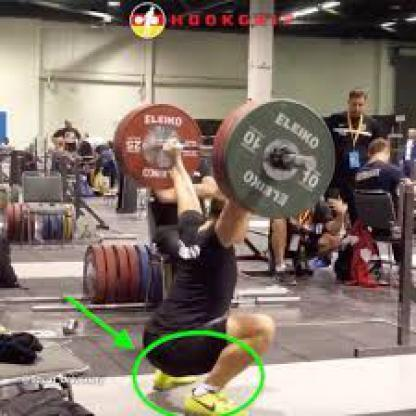barbell: (115, 102, 337, 218)
